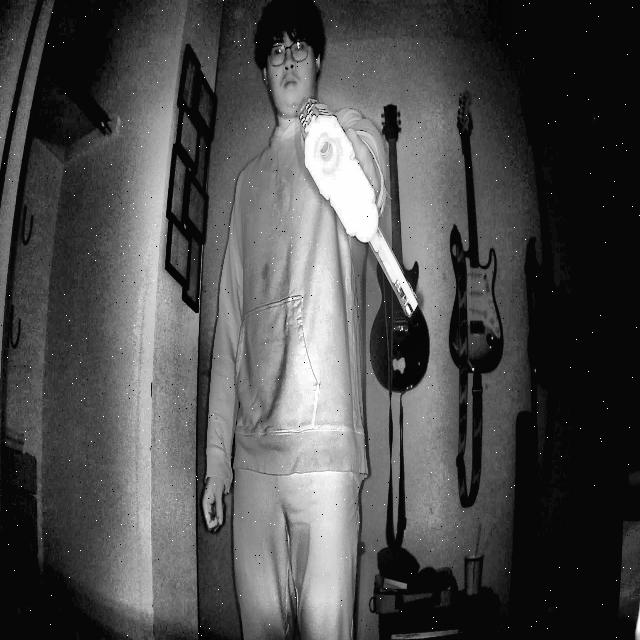Nerf_Blaster: (282, 62, 448, 388)
